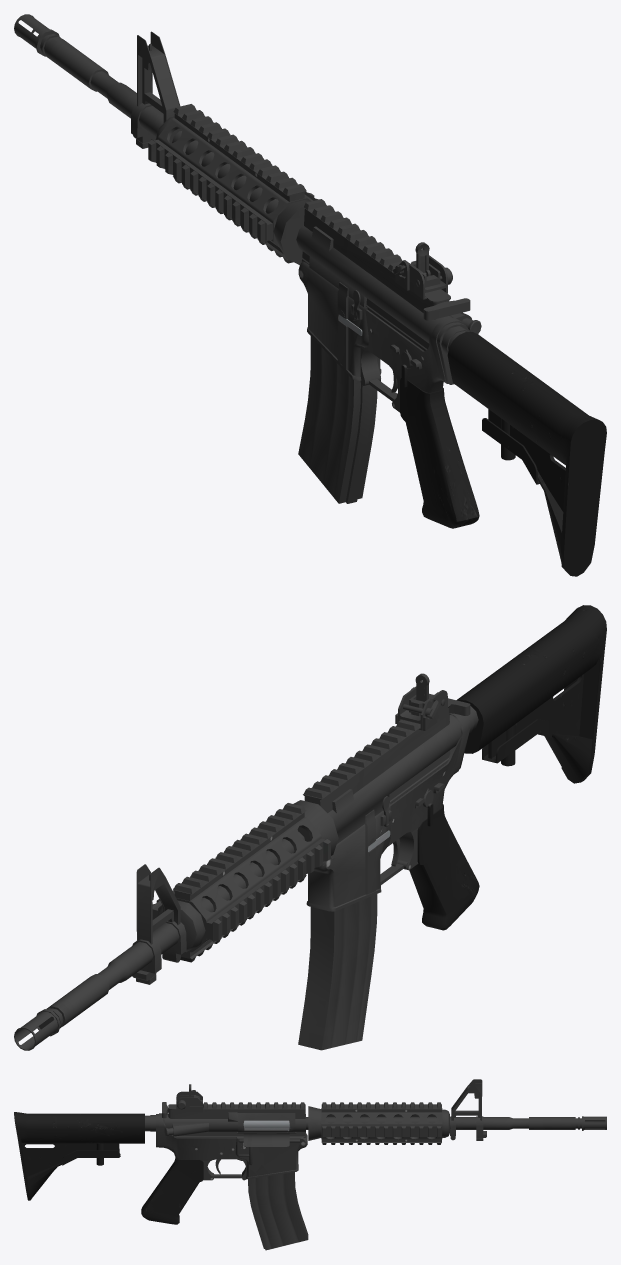
3 views of the same model, one above another, from view 1: azimuth 30°, elevation 25°; view 2: azimuth 150°, elevation 25°; view 3: azimuth 270°, elevation 25° (orthographic). The views are drawn at different scales.
Visible parts, largest first — view 1: Base; view 2: Base; view 3: Base.
Boxes of the visible parts, x1,y1,x2,y2 form: Base: [14, 14, 606, 576]; Base: [14, 605, 606, 1050]; Base: [14, 1079, 606, 1250].
Bounding box in the file's own units: 0.0636 × 0.2663 × 0.8588.
Materials: 1 (1 with a texture image).
